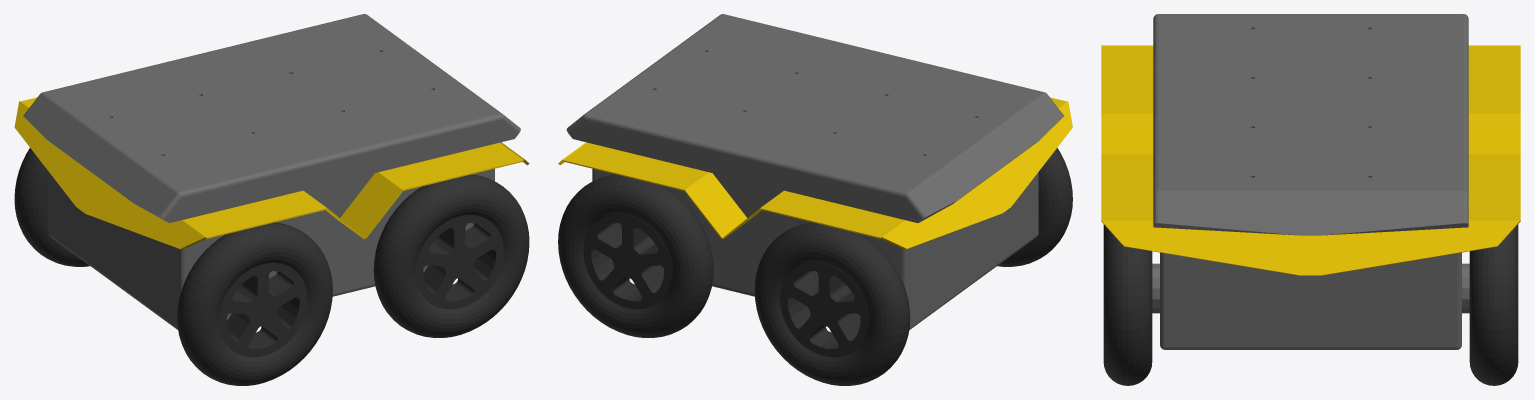
The model's file is jackal.glb.
The picture shows the model from 3 angles, left to right: view 1: azimuth 30°, elevation 25°; view 2: azimuth 150°, elevation 25°; view 3: azimuth 270°, elevation 25°; orthographic projection. The views are drawn at different scales.
Visible parts, largest first — view 1: jackal-base, jackal-wheel.003, jackal-wheel.002, jackal-fender.001, jackal-fender, jackal-wheel.001; view 2: jackal-base, jackal-wheel.001, jackal-wheel, jackal-fender.001, jackal-fender, jackal-wheel.003; view 3: jackal-base, jackal-fender, jackal-fender.001, jackal-wheel, jackal-wheel.002.
Boxes of the visible parts, x1,y1,x2,y2 form: jackal-base: (23,14,520,329); jackal-wheel.003: (177,222,332,385); jackal-wheel.002: (373,174,529,337); jackal-fender.001: (14,97,364,249); jackal-fender: (340,142,529,238); jackal-wheel.001: (14,148,89,266); jackal-base: (566,14,1063,329); jackal-wheel.001: (754,222,910,385); jackal-wheel: (558,174,713,337); jackal-fender.001: (722,97,1072,249); jackal-fender: (558,142,747,238); jackal-wheel.003: (997,148,1072,266); jackal-base: (1152,14,1469,349); jackal-fender: (1101,154,1520,275); jackal-fender.001: (1101,45,1520,154); jackal-wheel: (1469,224,1518,385); jackal-wheel.002: (1103,224,1152,385).
Bounding box in the file's own units: 0.5106 × 0.2493 × 0.43.
